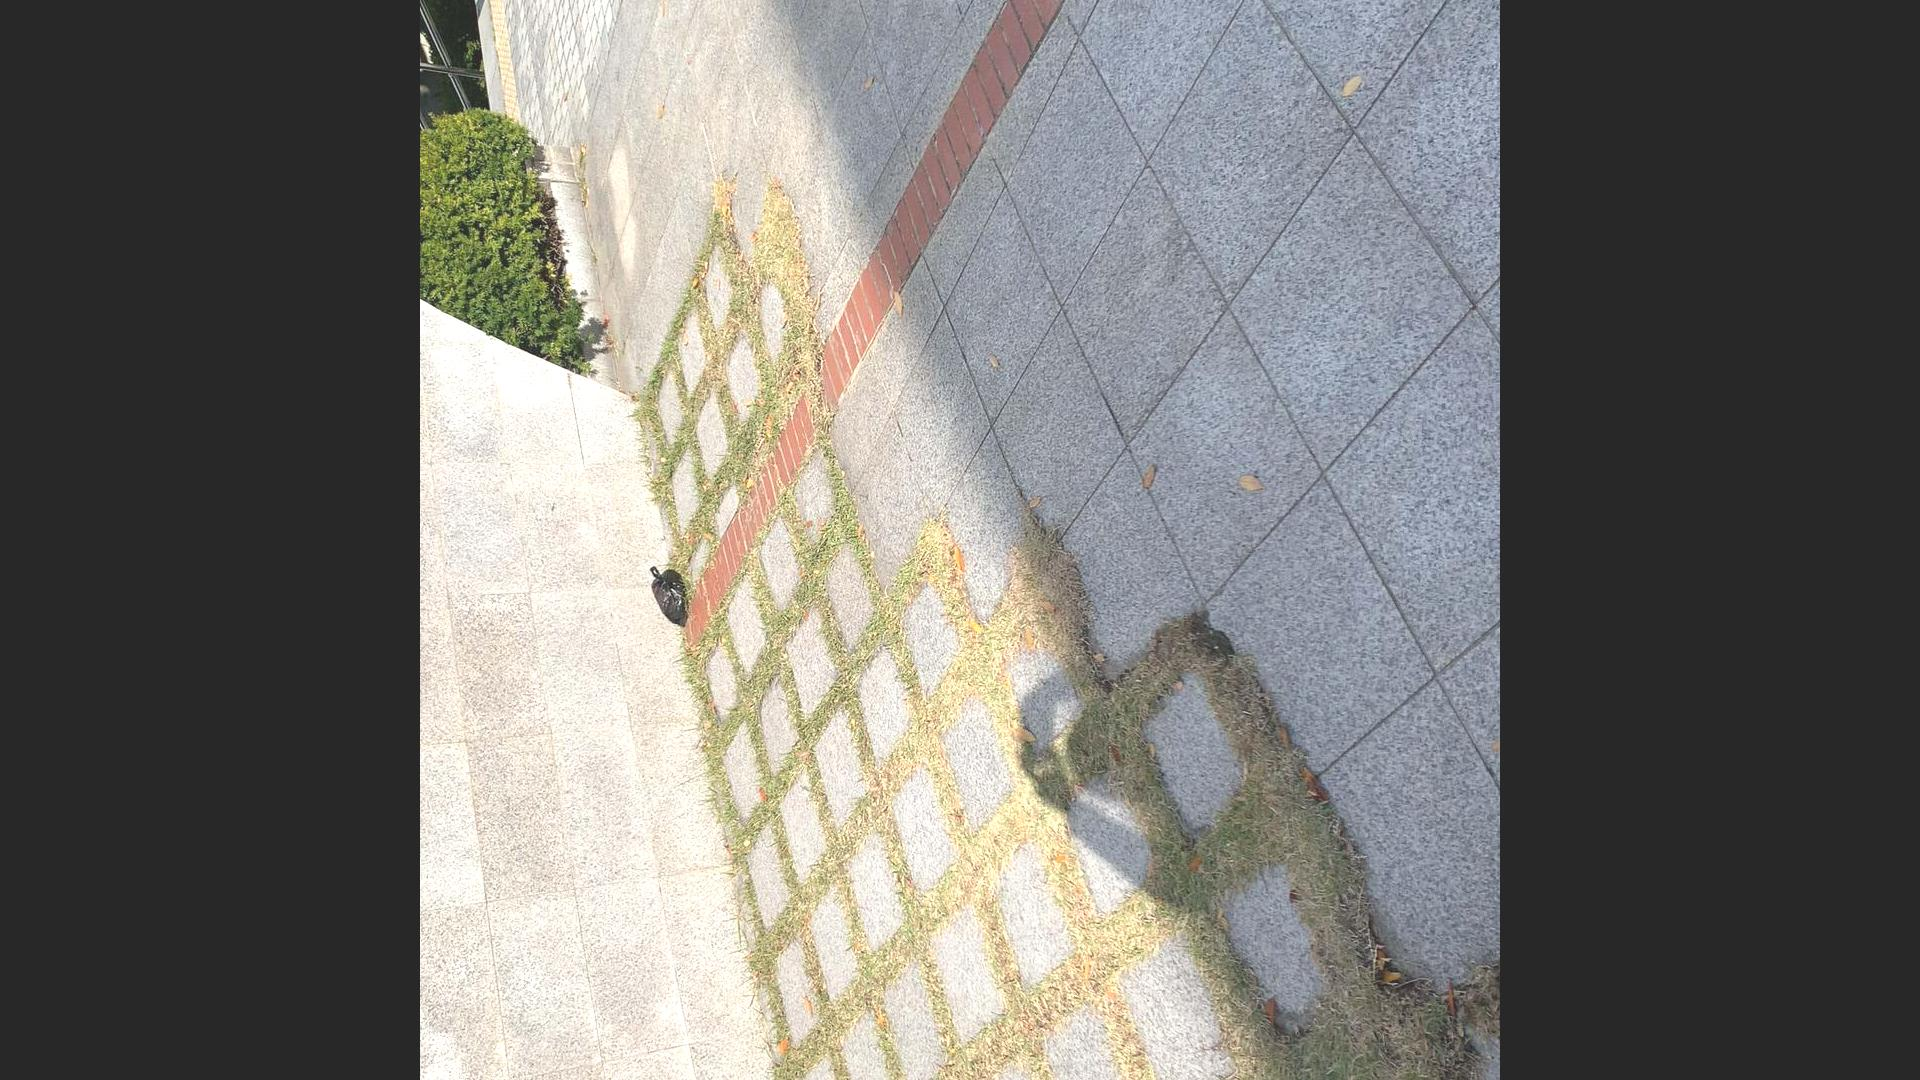black_bag: (645, 563, 688, 633)
